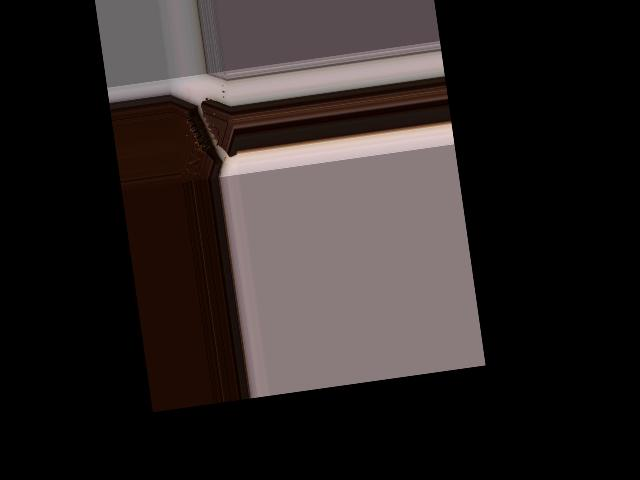chocolate: (171, 85, 240, 181)
